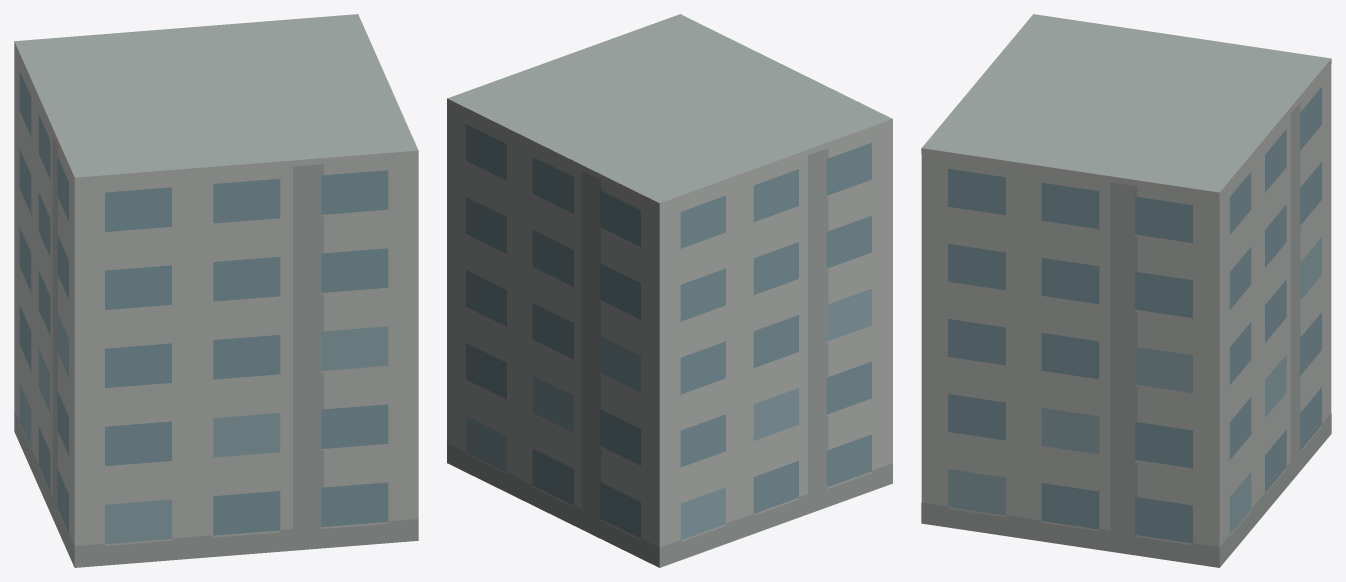
File: residential-6e23bbf6-858a-4d68-913f-66589eb3ee38.glb
The picture shows the model from 3 angles, left to right: view 1: azimuth 30°, elevation 25°; view 2: azimuth 150°, elevation 25°; view 3: azimuth 270°, elevation 25°; orthographic projection. The views are drawn at different scales.
Parts seen in each view (by area): view 1: residential-6e23bbf6-858a-4d68-913f-66589eb3ee38.tmp; view 2: residential-6e23bbf6-858a-4d68-913f-66589eb3ee38.tmp; view 3: residential-6e23bbf6-858a-4d68-913f-66589eb3ee38.tmp.
Part boxes in pixels (<box>): residential-6e23bbf6-858a-4d68-913f-66589eb3ee38.tmp: <box>14,14,418,567</box>; residential-6e23bbf6-858a-4d68-913f-66589eb3ee38.tmp: <box>447,14,892,567</box>; residential-6e23bbf6-858a-4d68-913f-66589eb3ee38.tmp: <box>921,14,1331,567</box>.
Bounding box in the file's own units: 15.56 × 15.25 × 15.11.
